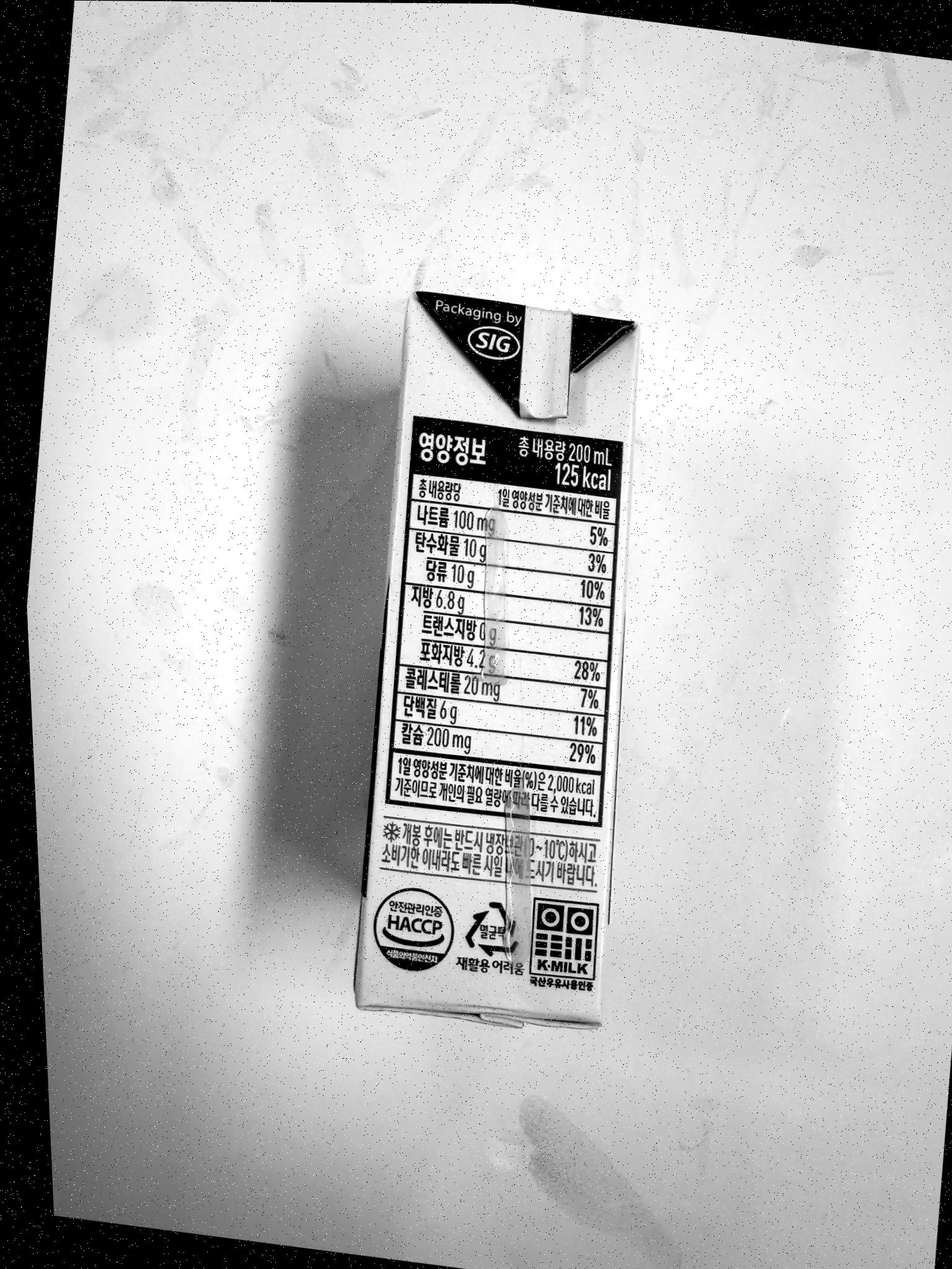milk_green: (360, 293, 635, 1026)
